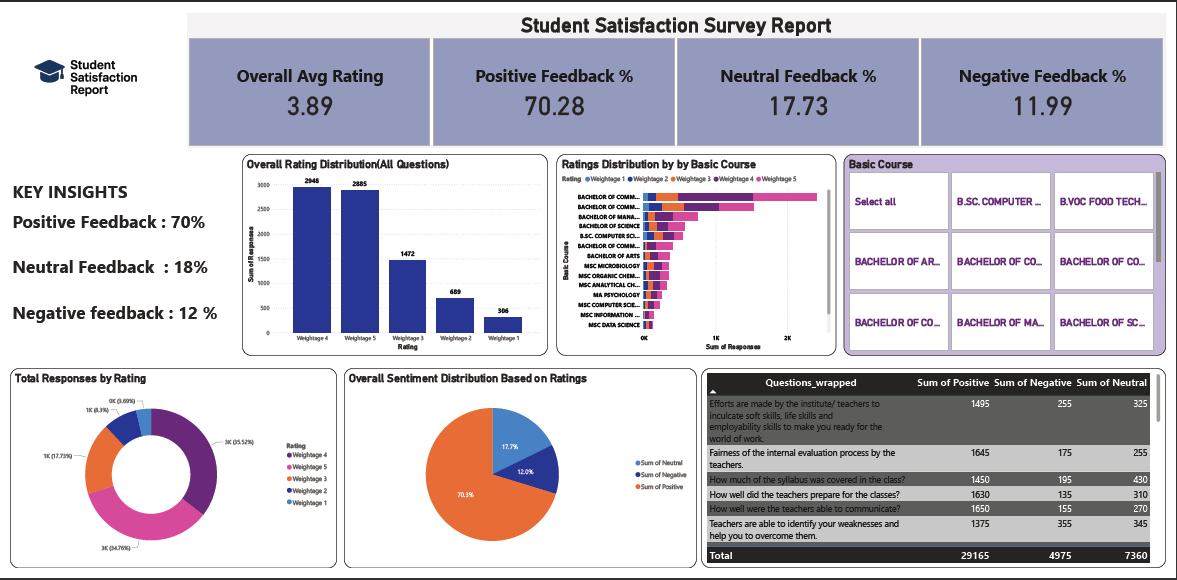

This screenshot's page, from the dashboard's own definition file:
{"tool":"powerbi","page":{"name":"Student Satisfaction Dashboard","canvas":[2500,1200],"ordinal":0},"visuals":[{"type":"cardVisual","title":"Student Satisfaction Survey Report","fields":{"Data":["FinalData.Overall Avg Rating","FinalData.Positive Feedback %","FinalData.Neutral Feedback %","FinalData.Negative Feedback %"]},"box":[382.8,0,2117.2,290.8],"z":0},{"type":"clusteredColumnChart","title":"Overall Rating Distribution(All Questions)","fields":{"Category":["FinalData.Rating"],"Y":["Sum(FinalData.Responses)"]},"box":[502.1,305.4,661.1,435.1],"z":1000},{"type":"donutChart","title":"Total Responses by Rating","fields":{"Category":["FinalData.Rating"],"Y":["Sum(FinalData.Responses)"]},"box":[0,767.8,707.1,433.1],"z":2000},{"type":"pieChart","title":"Overall Sentiment Distribution Based on Ratings","fields":{"Y":["Sum(FinalData.Neutral)","Sum(FinalData.Negative)","Sum(FinalData.Positive)"]},"box":[721.8,767.8,763.6,433.1],"z":3000},{"type":"barChart","title":"Ratings Distribution by by Basic Course ","fields":{"Category":["FinalData.Basic Course"],"Series":["FinalData.Rating"],"Y":["Sum(FinalData.Responses)"]},"box":[1182,305.4,604.6,435.1],"z":4000},{"type":"advancedSlicerVisual","fields":{"Values":["FinalData.Basic Course"]},"box":[1803.3,305.4,696.7,435.1],"z":5000},{"type":"tableEx","fields":{"Values":["FinalData.Questions_wrapped","Sum(FinalData.Positive)","Sum(FinalData.Negative)","Sum(FinalData.Neutral)"]},"box":[1495.1,768.3,1004.9,431.7],"z":6000},{"type":"textbox","box":[0,305.4,474.9,435.1],"z":7000},{"type":"image","box":[0,0,368.3,290.2],"z":8000},{"type":"textbox","box":[73.2,200,243.9,58.5],"z":9000}]}

Visuals, with their boxes in screenshot pixels (x1, y1, x2, y2), scaled from the page's 2500x1200 canvas onto the 1177x580 screenshot:
"Student Satisfaction Survey Report" cardVisual: 180 0 1176 141
"Overall Rating Distribution(All Questions)" clusteredColumnChart: 236 148 548 358
"Total Responses by Rating" donutChart: 0 371 333 579
"Overall Sentiment Distribution Based on Ratings" pieChart: 340 371 699 579
"Ratings Distribution by by Basic Course " barChart: 556 148 841 358
advancedSlicerVisual - FinalData.Basic Course: 849 148 1176 358
tableEx - FinalData.Questions_wrapped x Sum(FinalData.Positive): 704 371 1176 579
textbox: 0 148 224 358
image: 0 0 173 140
textbox: 34 97 149 125
